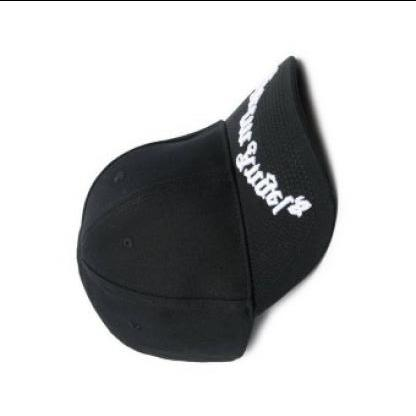cap: (66, 47, 340, 368)
